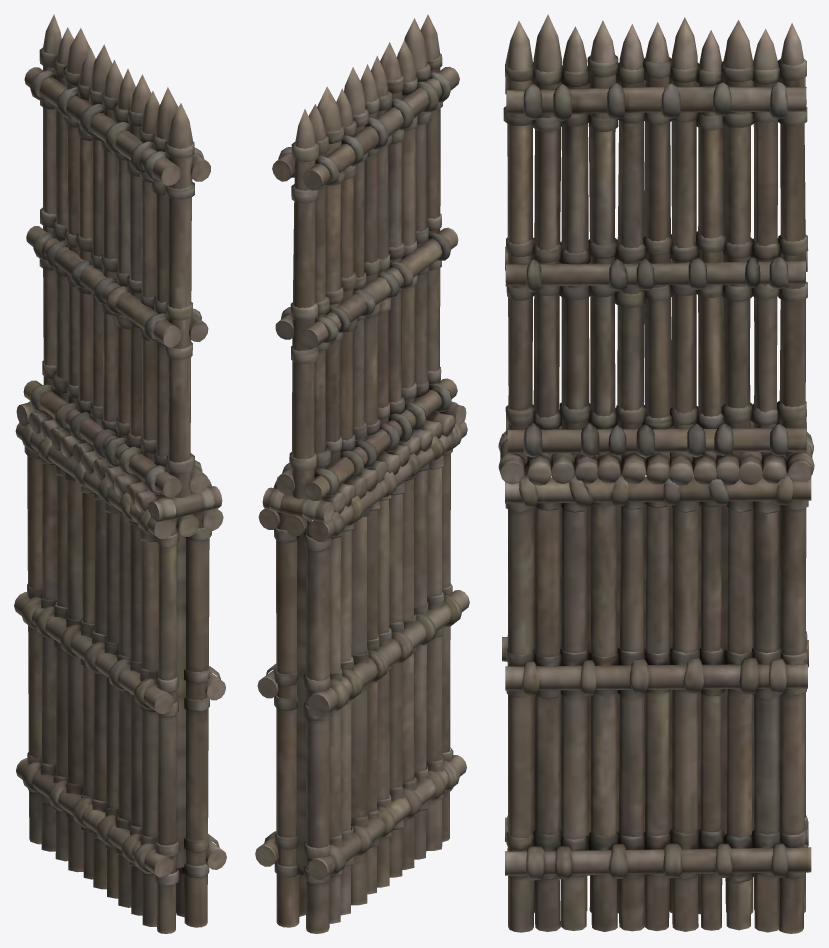
Rendered from SM_DefenseWall_Wood_cbbf97.glb.
3 renders of one model, left to right at view 1: azimuth 30°, elevation 25°; view 2: azimuth 150°, elevation 25°; view 3: azimuth 270°, elevation 25°, orthographic. The views are drawn at different scales.
Size of the model in its own units: 1.4 by 13.42 by 4.24.
2 materials, 2 textured.
